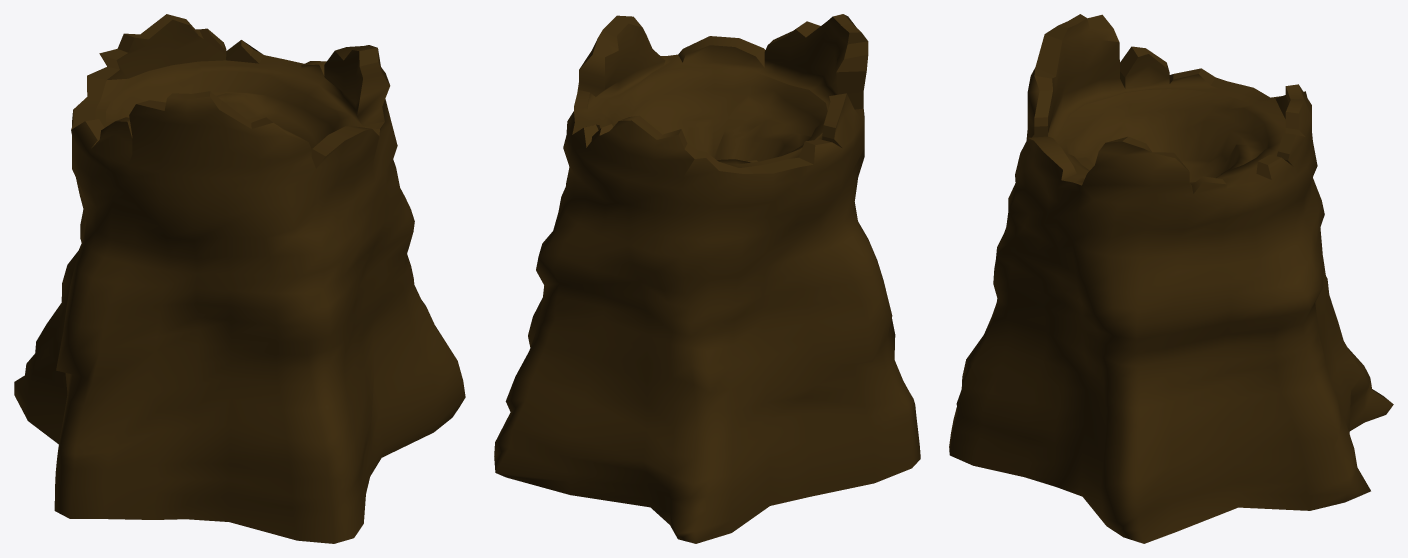
The model's file is Arbol Roto.fbx.
The picture shows the model from 3 angles, left to right: view 1: azimuth 30°, elevation 25°; view 2: azimuth 150°, elevation 25°; view 3: azimuth 270°, elevation 25°; orthographic projection. The views are drawn at different scales.
Parts seen in each view (by area): view 1: Broken_Tree; view 2: Broken_Tree; view 3: Broken_Tree.
Part boxes in pixels (<box>): Broken_Tree: <box>14,14,465,543</box>; Broken_Tree: <box>494,14,920,543</box>; Broken_Tree: <box>949,14,1393,543</box>.
Size of the model in its own units: 2.82 by 2.89 by 2.91.
